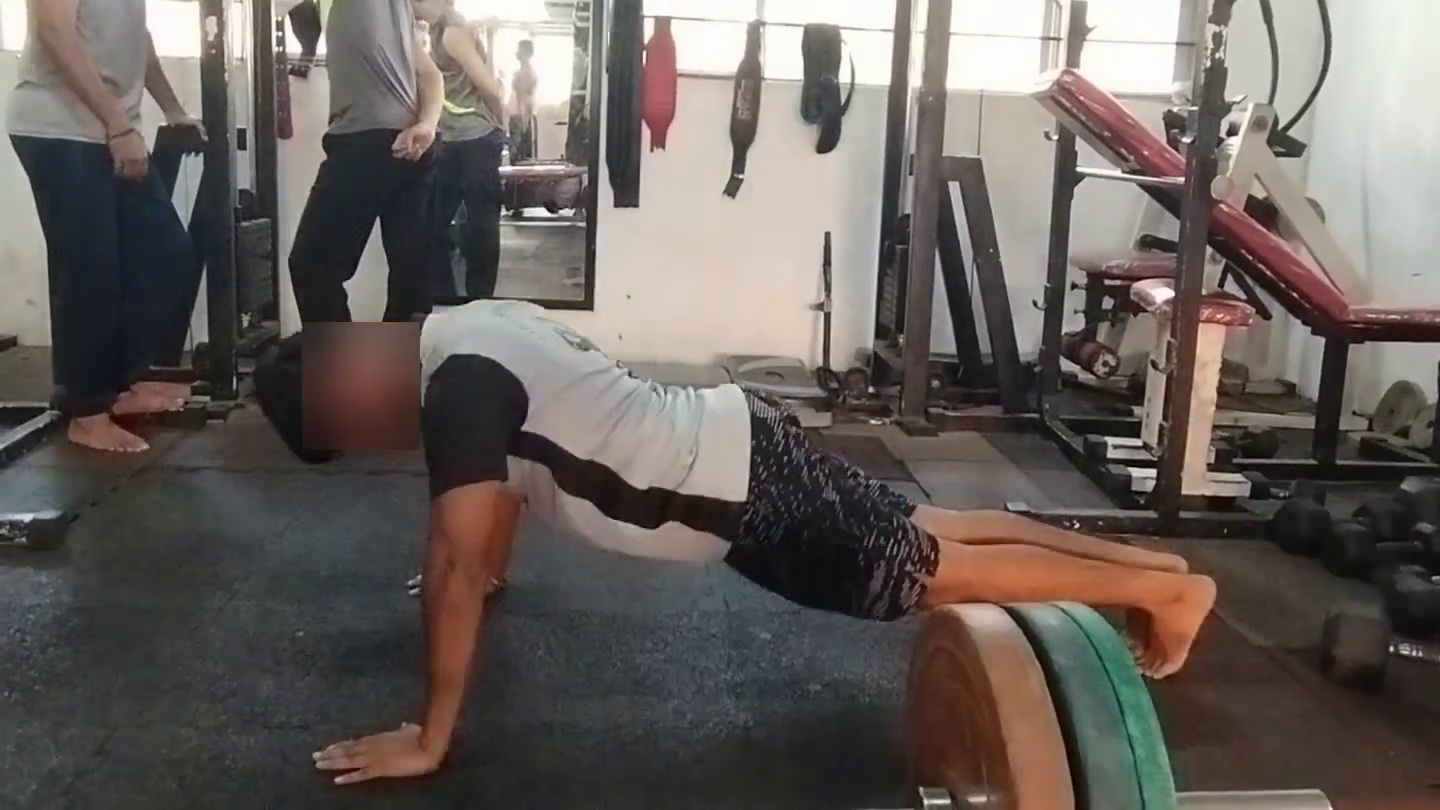push_up_correct: (83, 112, 772, 810)
